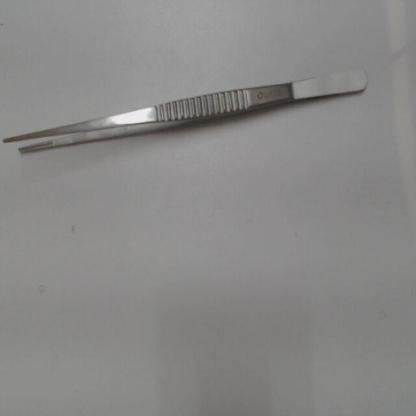DeBakey Dissector: (1, 53, 379, 183)
